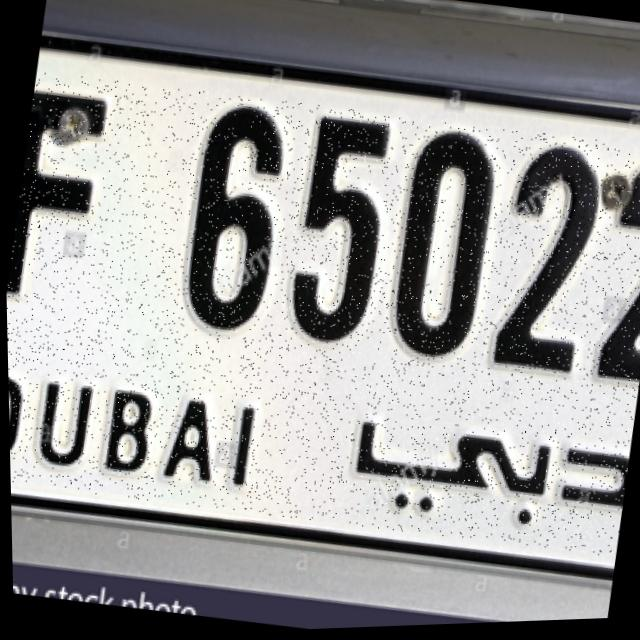license_plate: (1, 53, 640, 579)
